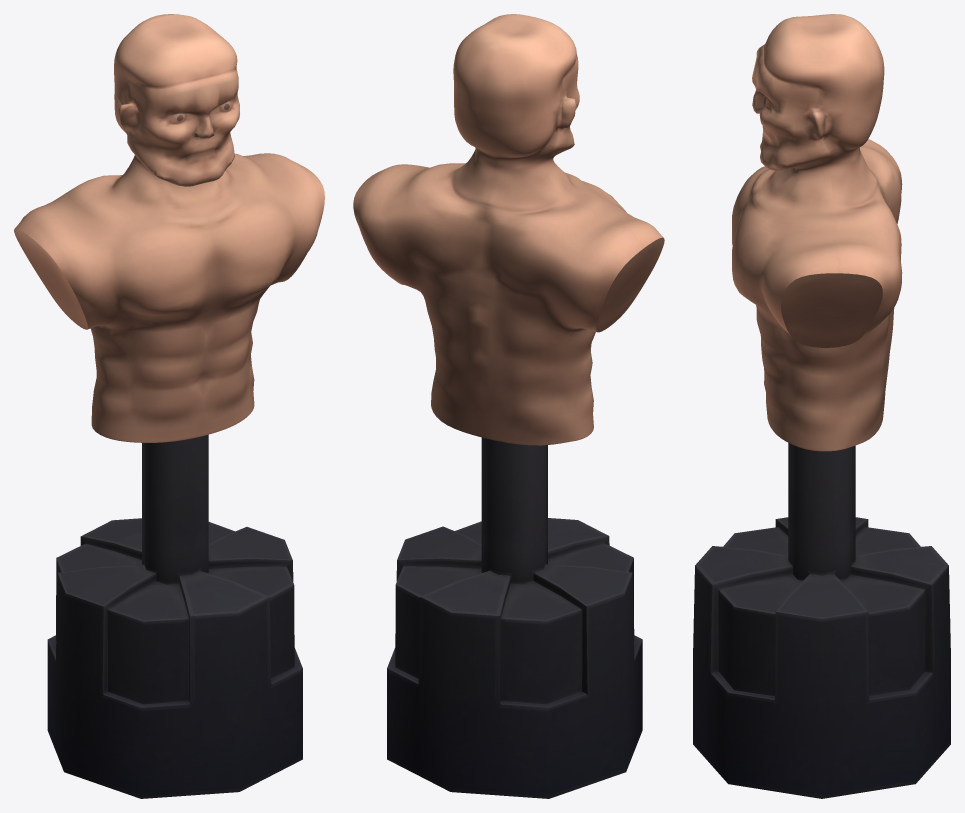
The model's file is training_dummy.glb.
3 renders of one model, left to right at view 1: azimuth 30°, elevation 25°; view 2: azimuth 150°, elevation 25°; view 3: azimuth 270°, elevation 25°, orthographic.
Visible parts, largest first — view 1: dummy, base; view 2: dummy, base; view 3: base, dummy.
Part boxes in pixels (x1,y1,x2,y2): dummy: (14, 14, 324, 442); base: (47, 434, 302, 798); dummy: (353, 14, 664, 445); base: (387, 437, 642, 798); base: (693, 443, 950, 798); dummy: (732, 14, 902, 451).
Bounding box in the file's own units: 0.8777 × 2.16 × 0.7021.
1 material, 1 textured.
